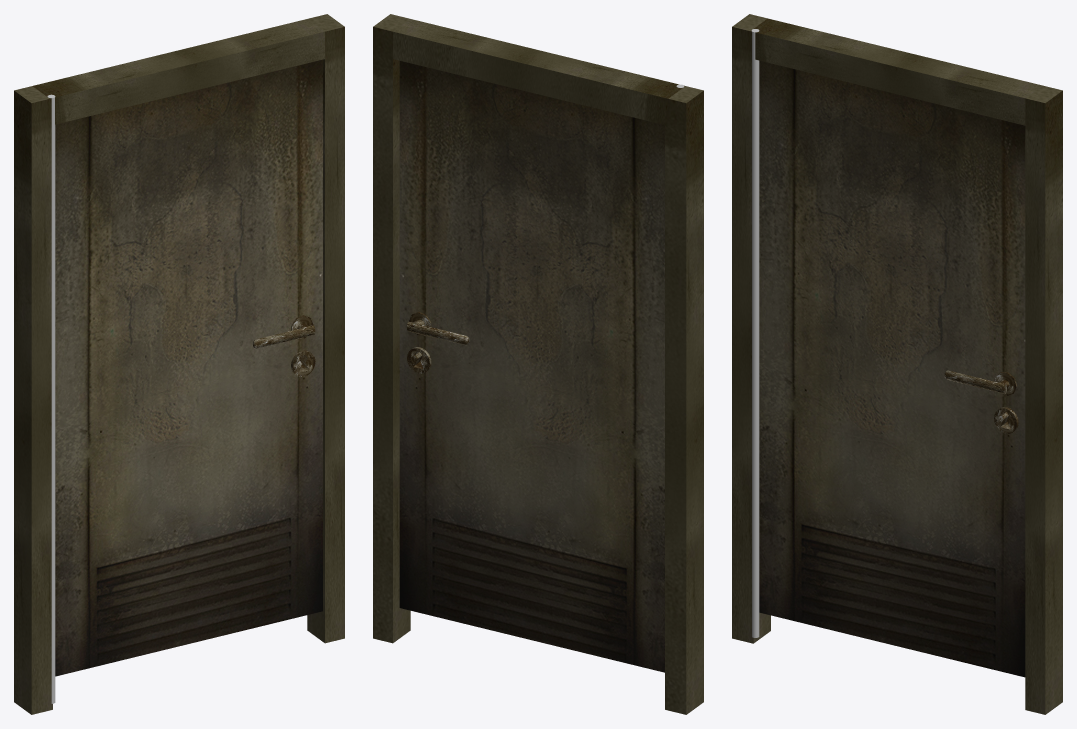
File: door_mining_room.dae
3 views of the same model, side by side, from view 1: azimuth 30°, elevation 25°; view 2: azimuth 150°, elevation 25°; view 3: azimuth 330°, elevation 25° (orthographic).
Visible parts, largest first — view 1: door, frame, _joint_hinge_door_null_95_0_nocollide_joint1; view 2: door, frame; view 3: door, frame, _joint_hinge_door_null_95_0_nocollide_joint1.
Part boxes in pixels (x1,y1,x2,y2): door: [55, 59, 322, 676]; frame: [14, 14, 344, 714]; _joint_hinge_door_null_95_0_nocollide_joint1: [47, 94, 55, 703]; door: [399, 61, 664, 672]; frame: [373, 14, 703, 714]; door: [759, 60, 1025, 677]; frame: [732, 14, 1062, 714]; _joint_hinge_door_null_95_0_nocollide_joint1: [751, 29, 759, 637].
Size of what is drawn, in the model's own units: 1.13 by 2.1 by 0.1553.
